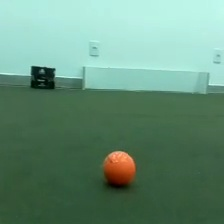ball: (100, 148, 139, 189)
goal: (79, 63, 211, 97)
robot: (28, 63, 57, 90)
